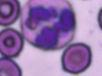N: (19, 0, 76, 50)
